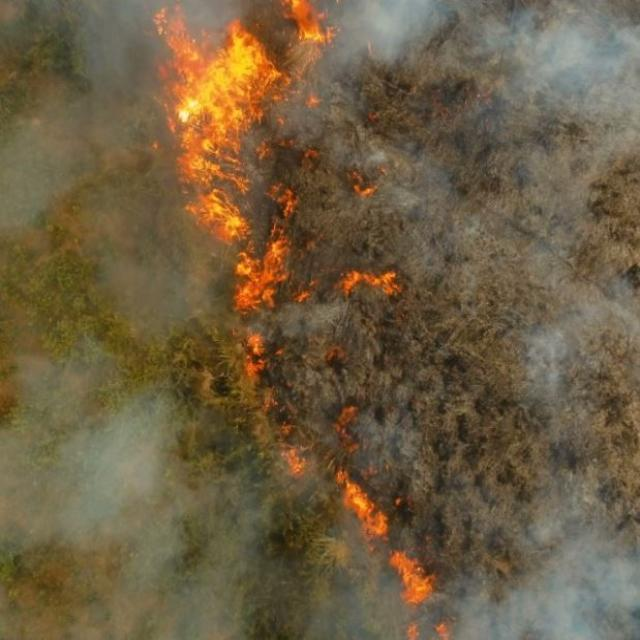Fire: (152, 4, 334, 388), (280, 445, 442, 640)
Smoke: (0, 349, 260, 640), (0, 0, 152, 217), (331, 0, 640, 92), (456, 513, 640, 640)
